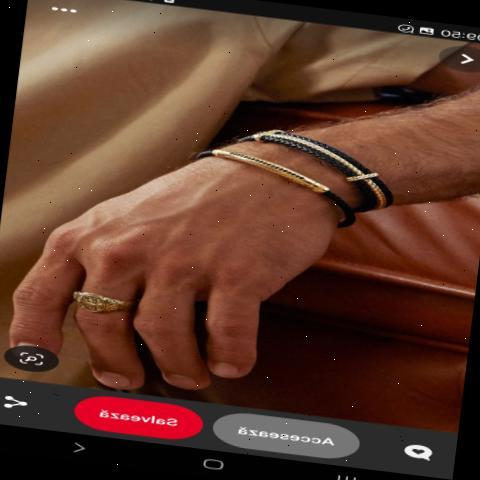Hands: (1, 135, 356, 384)
